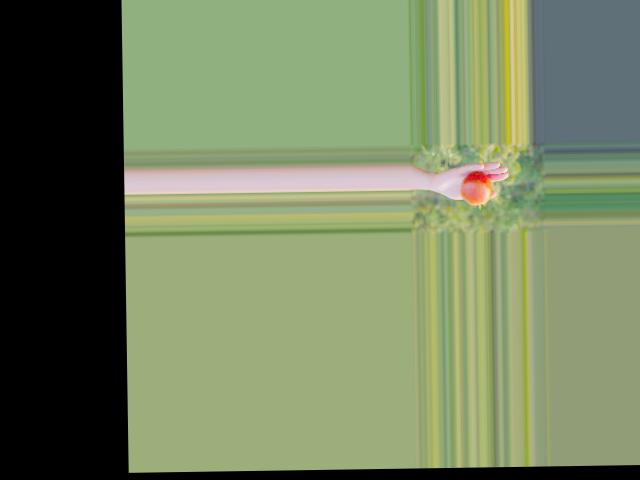tomato: (461, 170, 492, 204)
